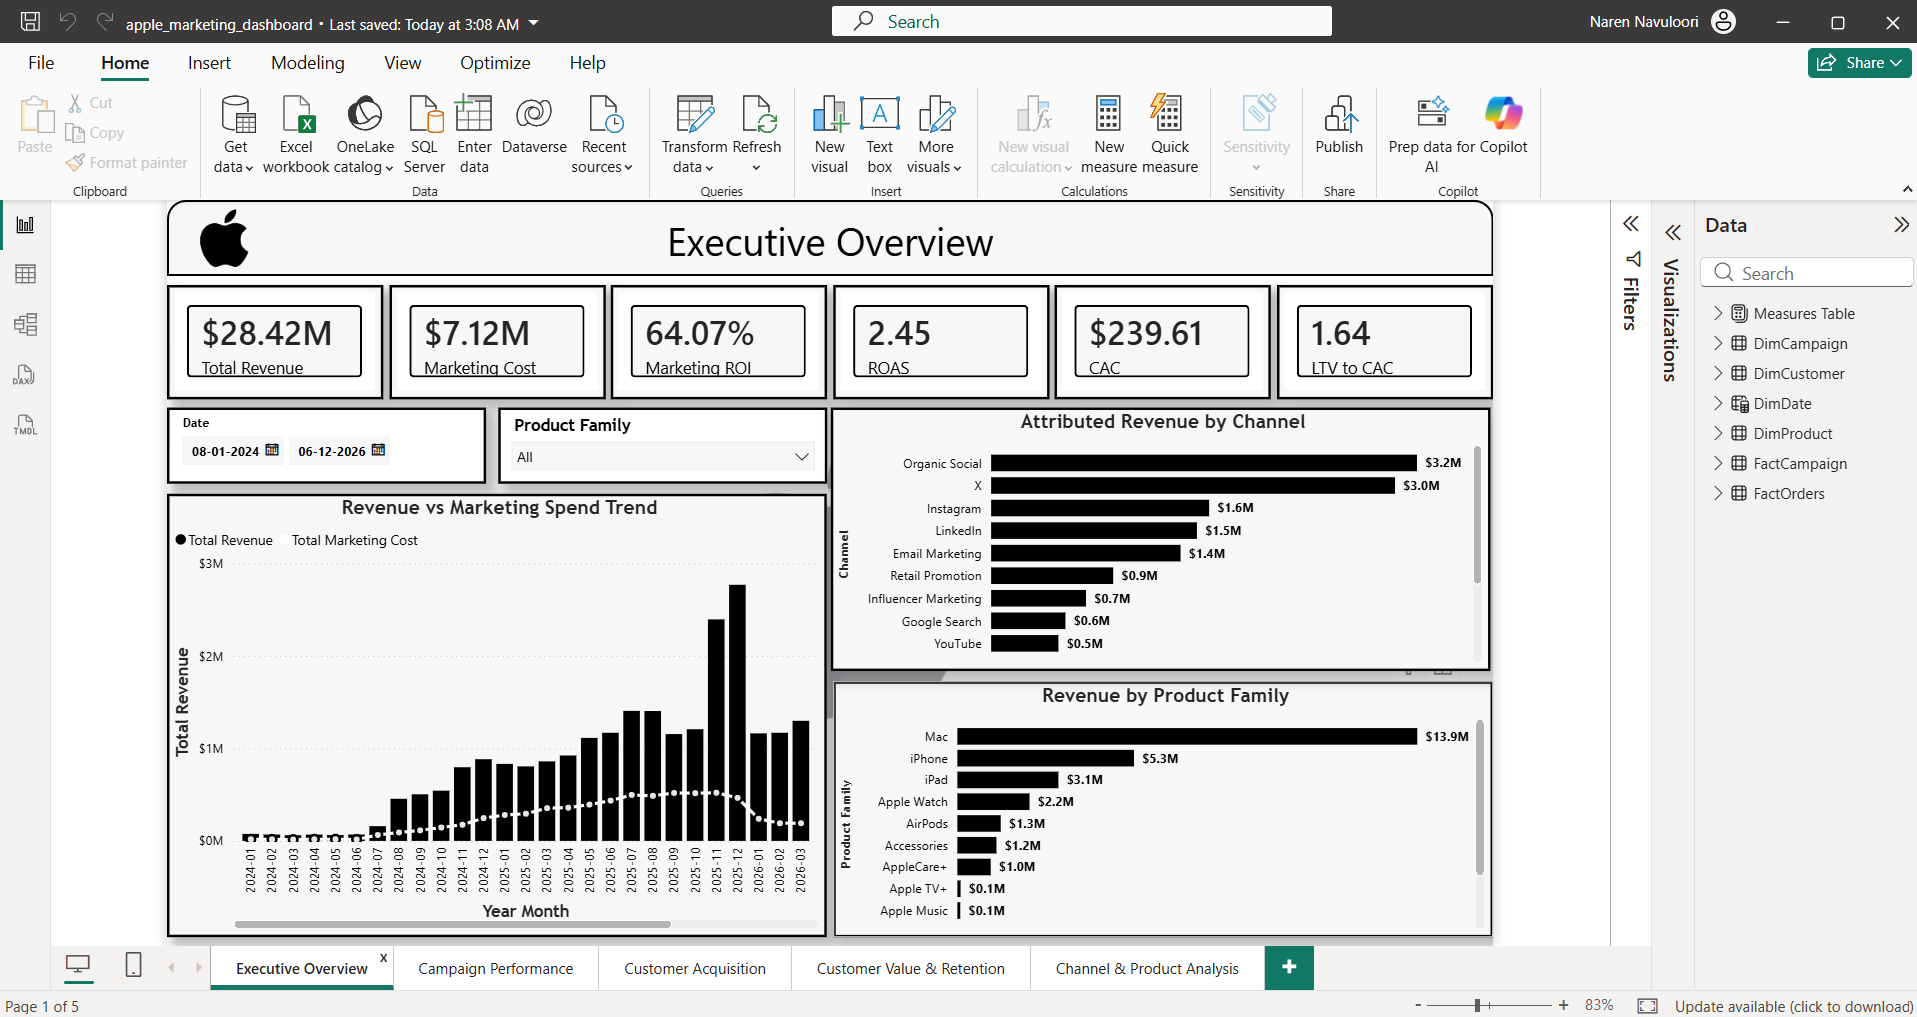

The page's visual inventory and layout, read from the dashboard file:
{"tool":"powerbi","page":{"name":"Executive Overview","canvas":[1280,720],"ordinal":0},"visuals":[{"type":"shape","box":[0,0,1280.3,73.4],"z":0},{"type":"image","box":[18.3,6.1,74.6,61.1],"z":1000},{"type":"cardVisual","fields":{"Data":["Measures Table.Total Revenue"]},"box":[0,81.9,209.1,110.1],"z":2000},{"type":"cardVisual","fields":{"Data":["Measures Table.Total Marketing Cost"]},"box":[214.2,81.9,209.1,110.1],"z":3000},{"type":"cardVisual","fields":{"Data":["Measures Table.Marketing ROI"]},"box":[428.5,81.9,209.1,110.1],"z":4000},{"type":"cardVisual","fields":{"Data":["Measures Table.ROAS"]},"box":[642.7,81.9,209.1,110.1],"z":5000},{"type":"cardVisual","fields":{"Data":["Measures Table.CAC"]},"box":[857,81.9,209.1,110.1],"z":6000},{"type":"cardVisual","fields":{"Data":["Measures Table.LTV to CAC"]},"box":[1070.9,81.9,209.1,110.1],"z":7000},{"type":"slicer","fields":{"Values":["DimDate.Date"]},"box":[0,200.5,308.2,73.4],"z":8000},{"type":"slicer","fields":{"Values":["DimProduct.product_family"]},"box":[319.2,200.5,317.9,73.4],"z":9000},{"type":"lineClusteredColumnComboChart","title":"Revenue vs Marketing Spend Trend","fields":{"Category":["DimDate.Year Month"],"Y":["Measures Table.Total Revenue"],"Y2":["Measures Table.Total Marketing Cost"]},"box":[0,283.7,637.1,428],"z":10000},{"type":"clusteredBarChart","title":"Revenue by Product Family","fields":{"Category":["DimProduct.product_family"],"Y":["Measures Table.Total Revenue"]},"box":[643,464.5,637,247.3],"z":11000},{"type":"clusteredBarChart","title":"Attributed Revenue by Channel","fields":{"Category":["FactCampaign.channel"],"Y":["Measures Table.Attributed Revenue"]},"box":[640.6,200.3,637,254.6],"z":12000}]}

Visuals, with their boxes on the page's 1280x720 design canvas (x1, y1, x2, y2). These are canvas units, not pixel positions in the 1917x1017 screenshot, which may show the page scaled, cropped or inside an application window:
shape: 0 0 1280 73
image: 18 6 93 67
cardVisual - Measures Table.Total Revenue: 0 82 209 192
cardVisual - Measures Table.Total Marketing Cost: 214 82 423 192
cardVisual - Measures Table.Marketing ROI: 428 82 638 192
cardVisual - Measures Table.ROAS: 643 82 852 192
cardVisual - Measures Table.CAC: 857 82 1066 192
cardVisual - Measures Table.LTV to CAC: 1071 82 1280 192
slicer - DimDate.Date: 0 200 308 274
slicer - DimProduct.product_family: 319 200 637 274
"Revenue vs Marketing Spend Trend" lineClusteredColumnComboChart: 0 284 637 712
"Revenue by Product Family" clusteredBarChart: 643 464 1280 712
"Attributed Revenue by Channel" clusteredBarChart: 641 200 1278 455
